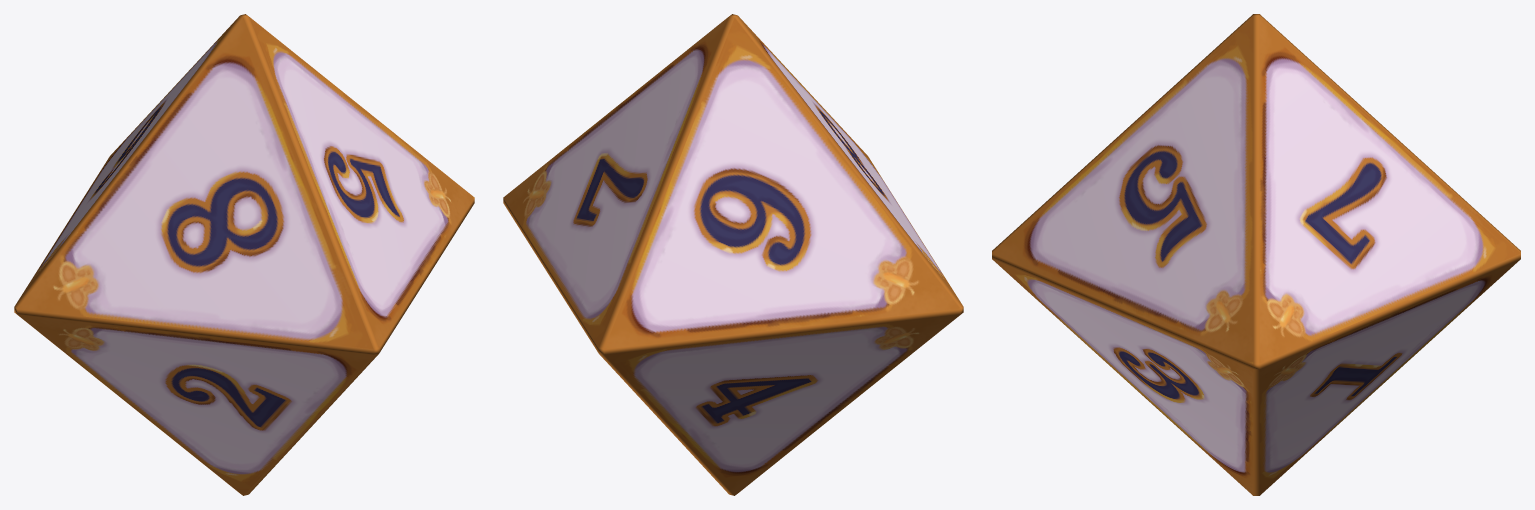
File: d8-urik.glb
The picture shows the model from 3 angles, left to right: view 1: azimuth 30°, elevation 25°; view 2: azimuth 150°, elevation 25°; view 3: azimuth 270°, elevation 25°; orthographic projection.
Visible parts, largest first — view 1: Mesh_0; view 2: Mesh_0; view 3: Mesh_0.
Boxes of the visible parts, x1=… form: Mesh_0: x1=14, y1=14, x2=474, y2=495; Mesh_0: x1=503, y1=14, x2=963, y2=495; Mesh_0: x1=992, y1=14, x2=1520, y2=495.
Size of the model in its own units: 196 by 196 by 196.
Materials: 1 (1 with a texture image).
